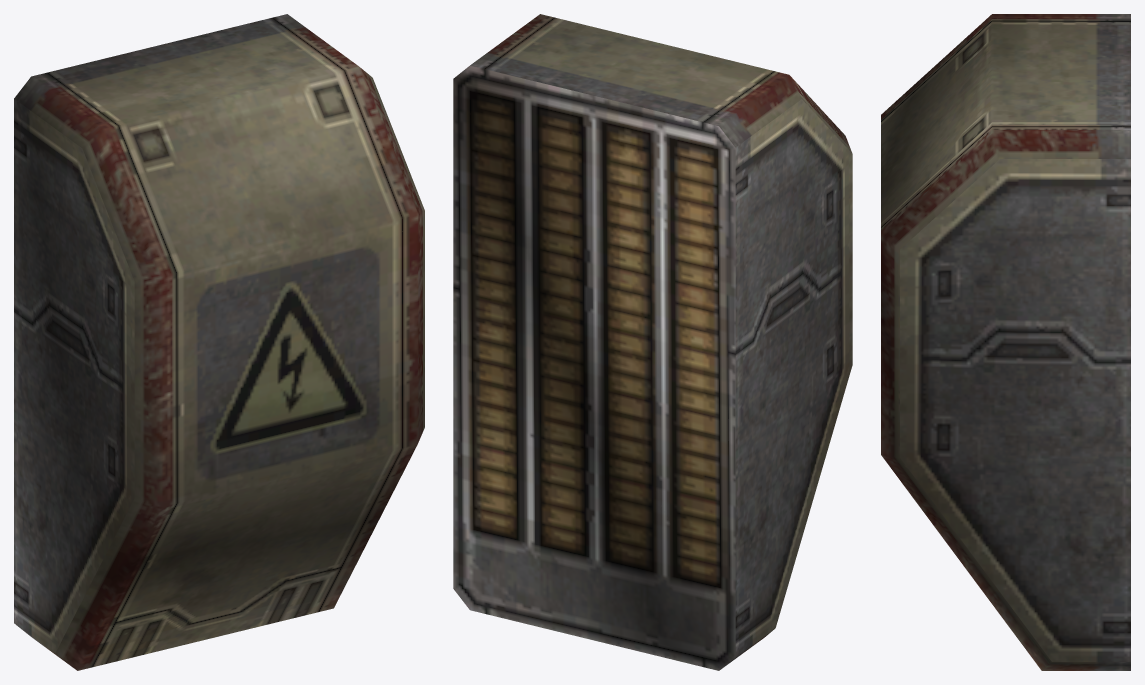
Rendered from powerpack.dae.
3 views of the same model, side by side, from view 1: azimuth 30°, elevation 25°; view 2: azimuth 150°, elevation 25°; view 3: azimuth 270°, elevation 25° (orthographic). The views are drawn at different scales.
Visible parts, largest first — view 1: pCube7; view 2: pCube7; view 3: pCube7.
Boxes of the visible parts, x1,y1,x2,y2 form: pCube7: [14, 14, 424, 670]; pCube7: [453, 14, 852, 670]; pCube7: [881, 14, 1130, 670].
Size of the model in its own units: 0.0967 by 0.1783 by 0.0751.
